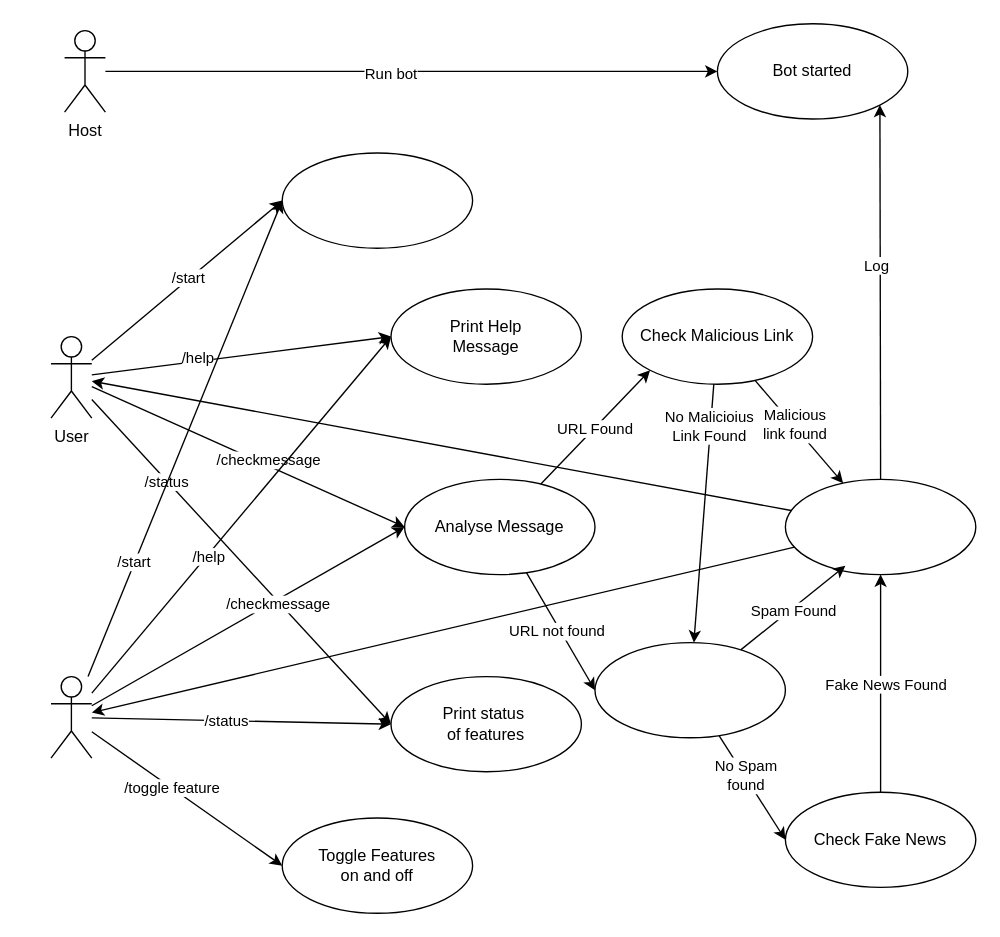
Some shapes in this 1000 by 937 pixel diagram are drawn without their labels. Here are the shapes that lost their labels. From the top down, the centre of each, then its label:
At pixel 377 200: "Print Welcome Message".
At pixel 880 526: "Report Message".
At pixel 689 689: "Check Spam".
At pixel 71 716: "Group Admin".
